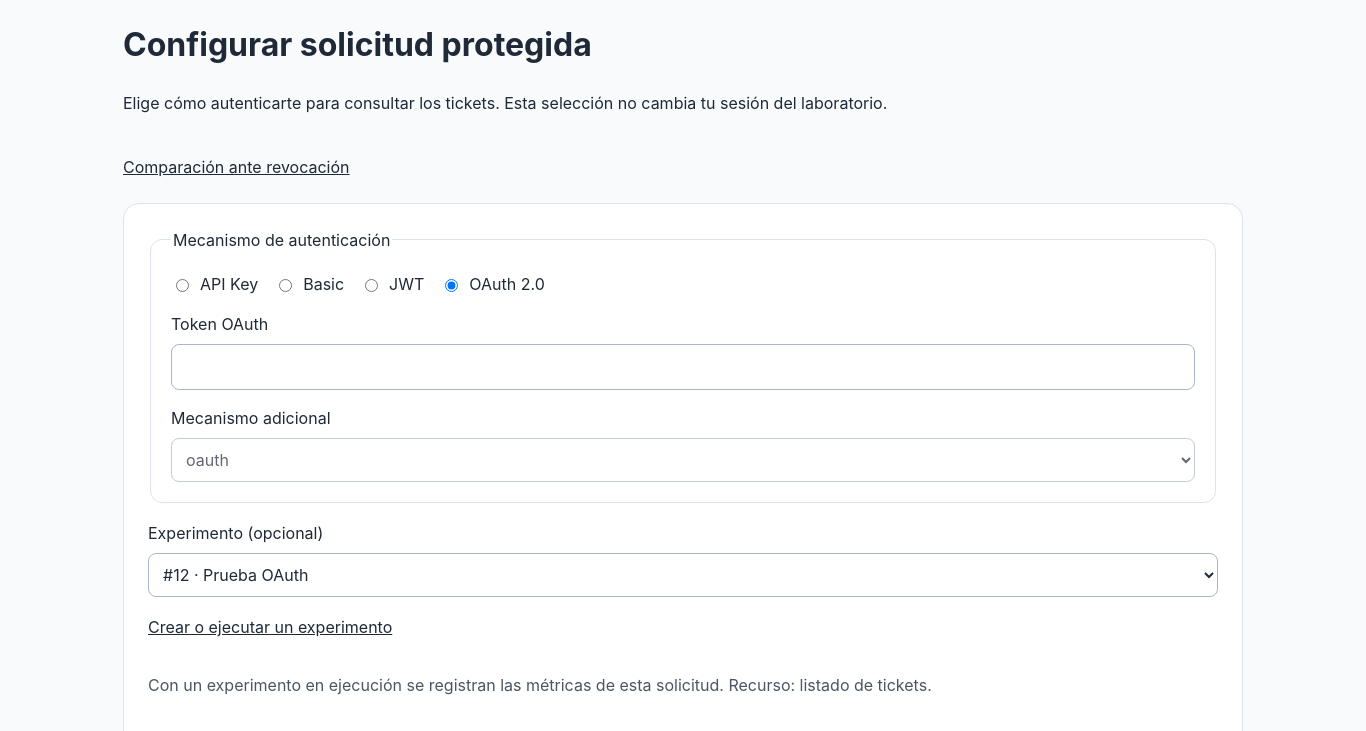
Test: recibe el experimento desde el listado y limpia su asociación al cambiar de mecanismo
Expected: the dropdown labelled "Experimento (opcional)" shows "#12 · Prueba OAuth", [148,553,1218,597]
Expected: the radio button labelled "OAuth 2.0" is checked, [445,279,458,292]
Click the radio button labelled "JWT".
click(372, 285)  # box [365,279,378,292]
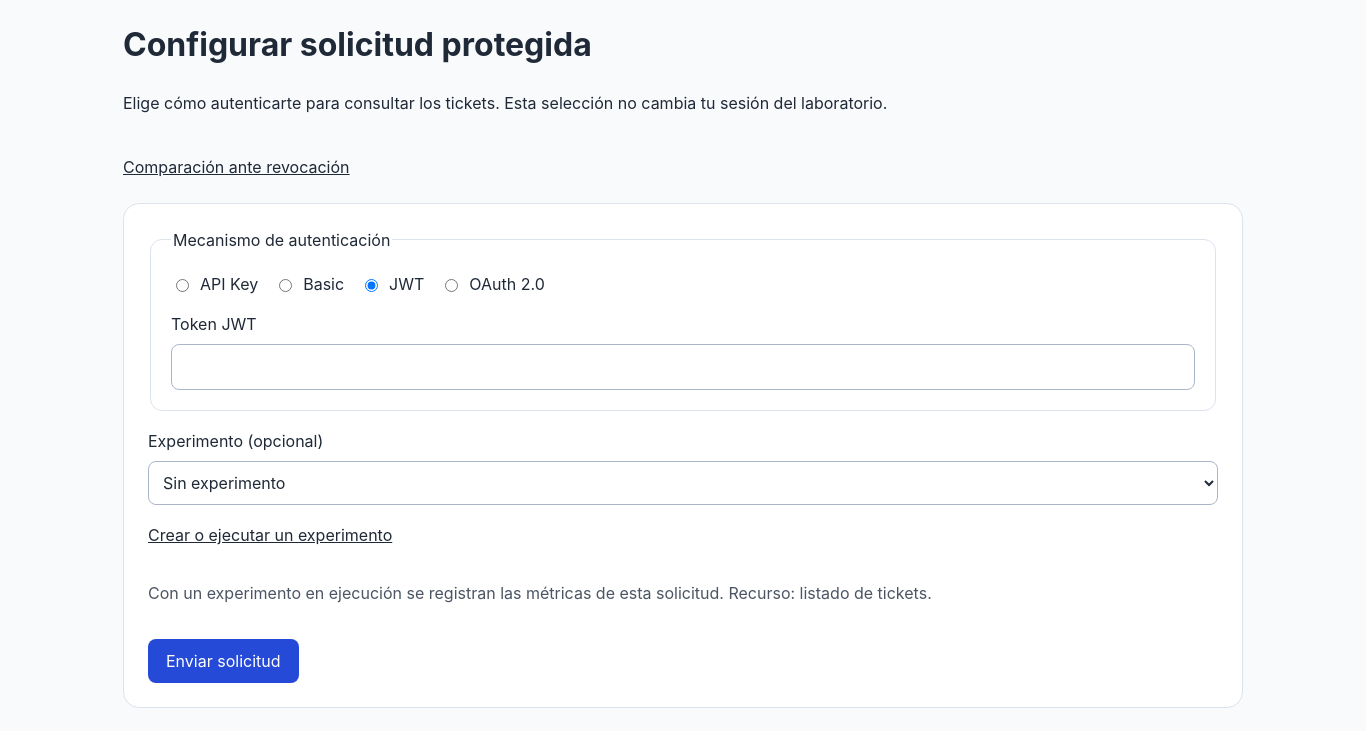
Expected: the option "#12 · Prueba OAuth" is not shown
Expected: the dropdown labelled "Experimento (opcional)" shows "Sin experimento", [148,461,1218,505]
